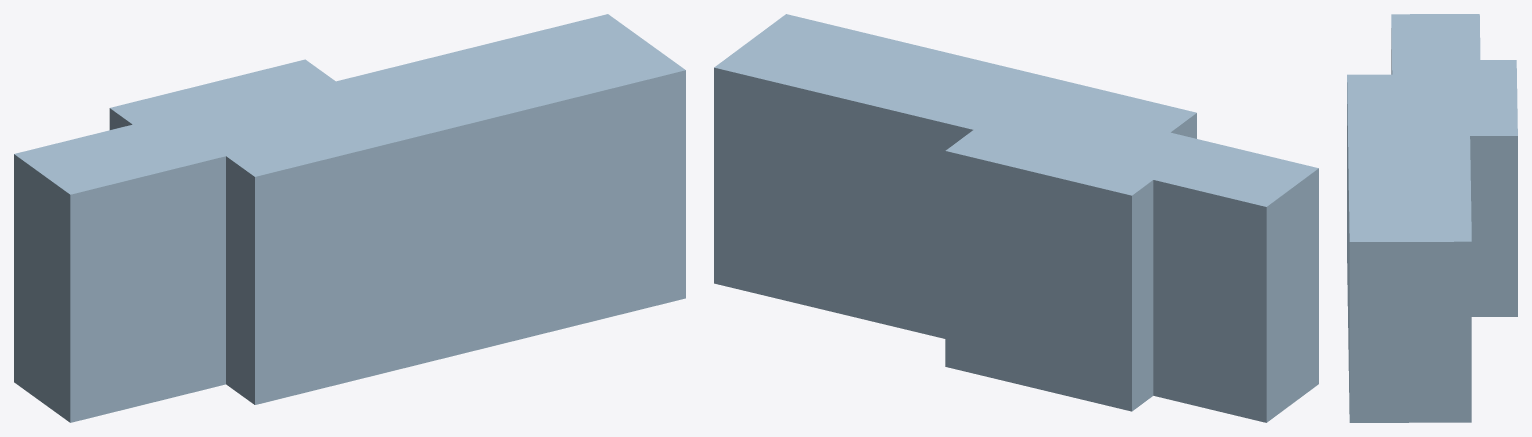
The model's file is osm_way_223859840.glb.
3 renders of one model, left to right at view 1: azimuth 30°, elevation 25°; view 2: azimuth 150°, elevation 25°; view 3: azimuth 270°, elevation 25°, orthographic. The views are drawn at different scales.
Visible parts, largest first — view 1: osm_way_223859840; view 2: osm_way_223859840; view 3: osm_way_223859840.
Boxes of the visible parts, box(x1,y1,x2,y2) form: osm_way_223859840: box(14, 14, 685, 422); osm_way_223859840: box(714, 14, 1318, 422); osm_way_223859840: box(1347, 14, 1517, 422).
Size of the model in its own units: 51.93 by 19.2 by 16.44.
